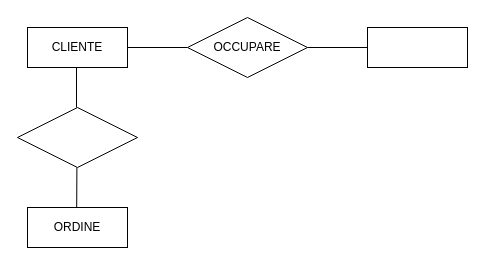
Image size: 485x265. Some labels were removed from this diagram. The shapes that lost their labels are listed below. From the top down, each one's centre as x and y in pixels, then its label:
At (x=417, y=47): "TAVOLO".
At (x=77, y=137): "EFFETTUA".
